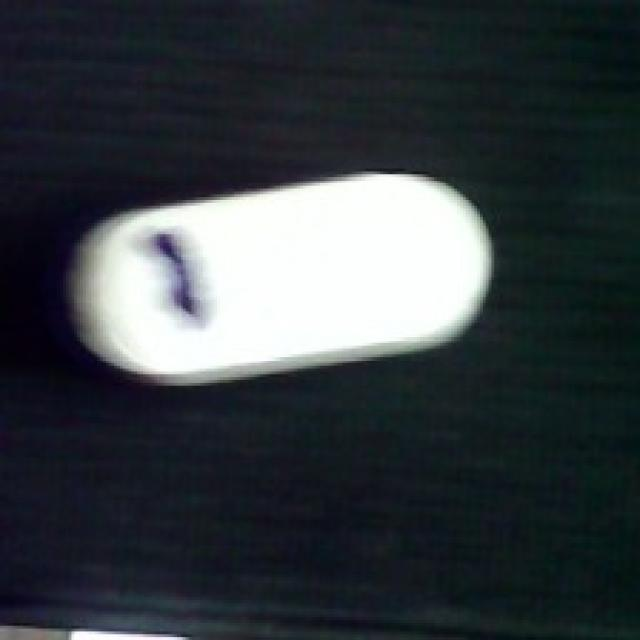defected: (57, 168, 500, 388)
